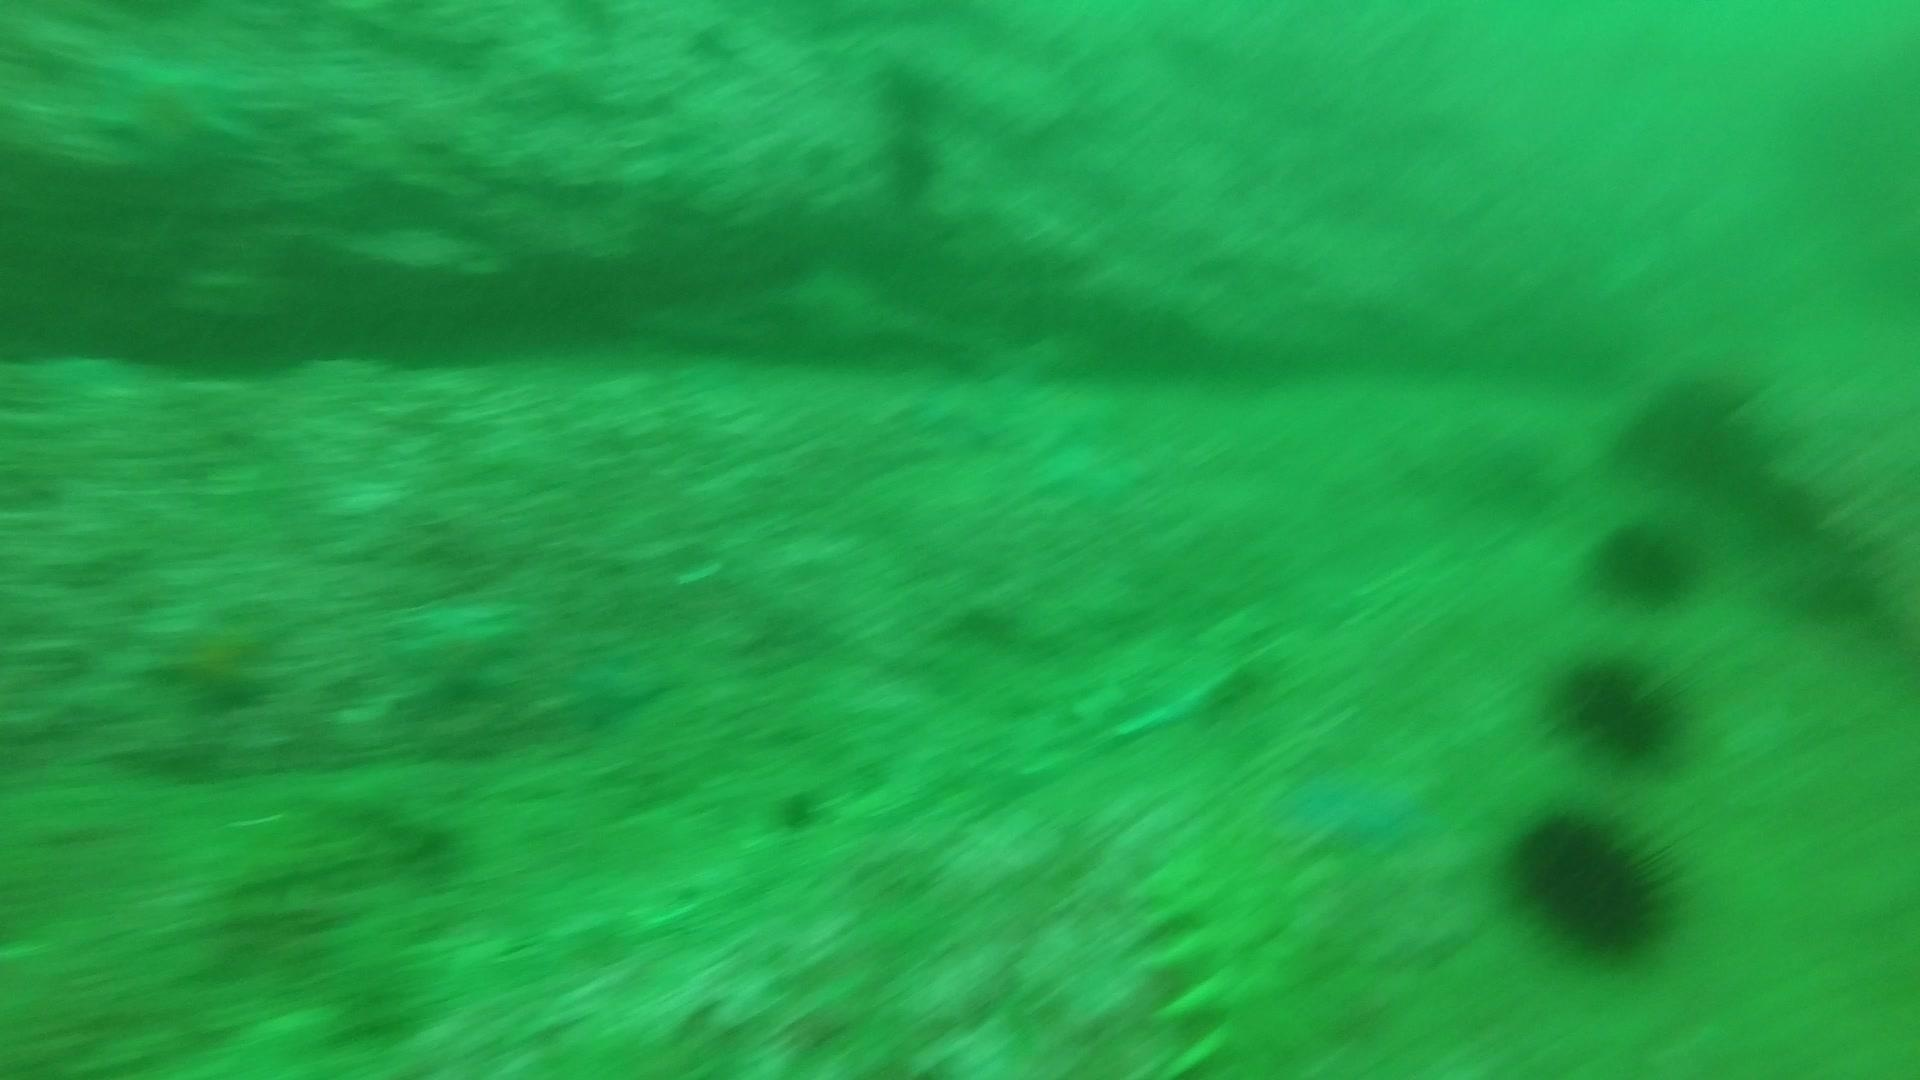echinus: (1501, 800, 1688, 967), (1544, 647, 1691, 767), (851, 115, 969, 216), (1584, 512, 1702, 612), (866, 55, 945, 141)
holothurian: (1114, 831, 1336, 1080)
starfish: (83, 44, 264, 178), (1266, 746, 1440, 858), (382, 587, 530, 712), (145, 597, 287, 715), (1026, 425, 1153, 513)
